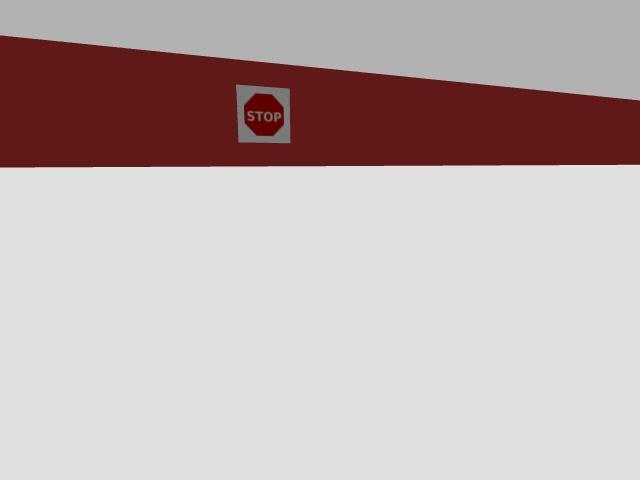stop: (237, 85, 289, 143)
